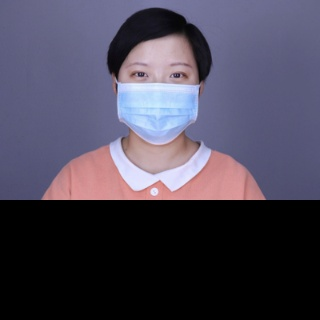with_mask: (114, 61, 201, 147)
